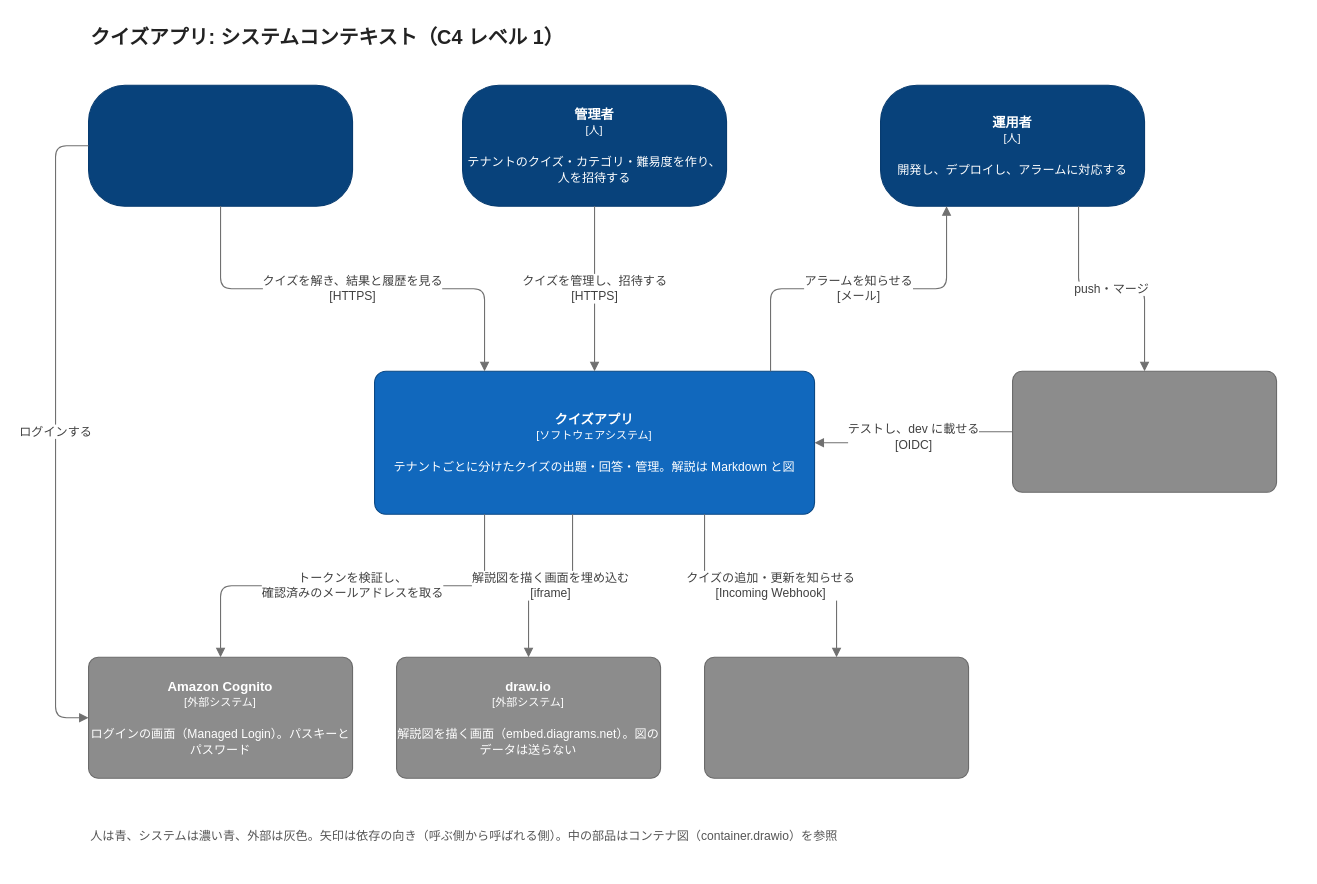
Image size: 1317x884. Some labels were removed from this diagram. Each missing label, with the centre of its shape:
"GitHub [外部システム] ソースと CI/CD（GitHub Actions）" goes at (1144,431).
"Slack [外部システム] テナントの管理者が設定したチャンネル" goes at (836,717).
"一般ユーザー [人] テナントに所属し、カテゴリと難易度を選んでクイズを解く" goes at (220,145).
